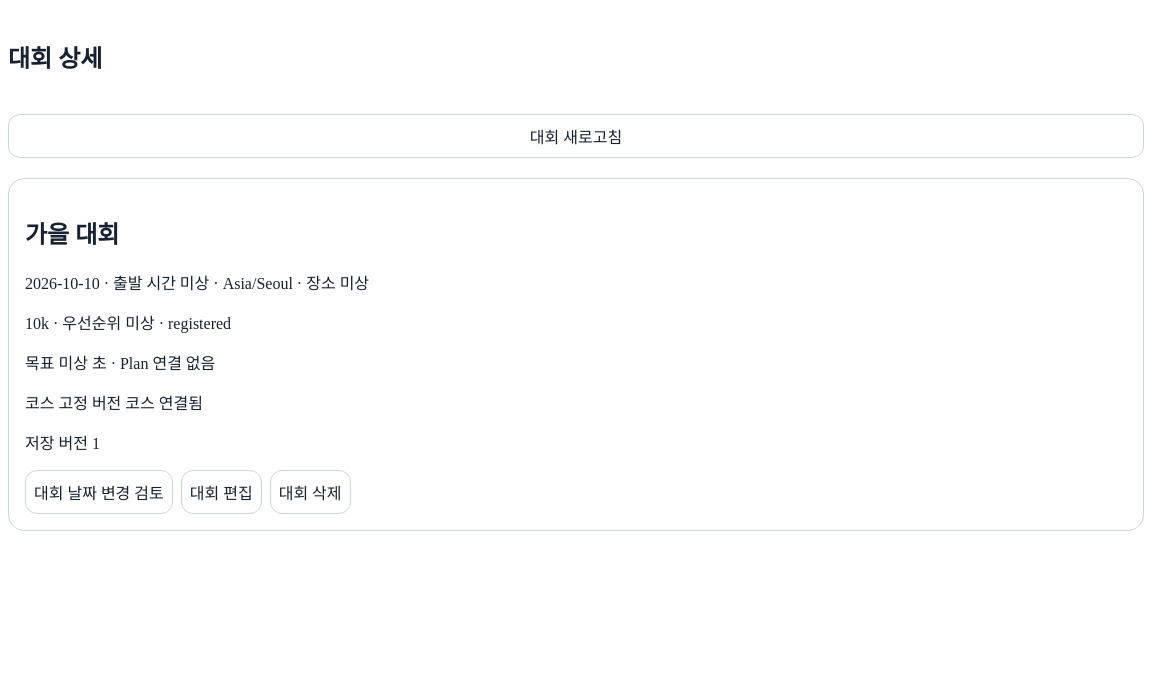
refreshes actual detail and relation plans only after explicit server commit
Click the button "대회 날짜 변경 검토" at (99, 492), box [25,470,173,514]
(page scrolled)
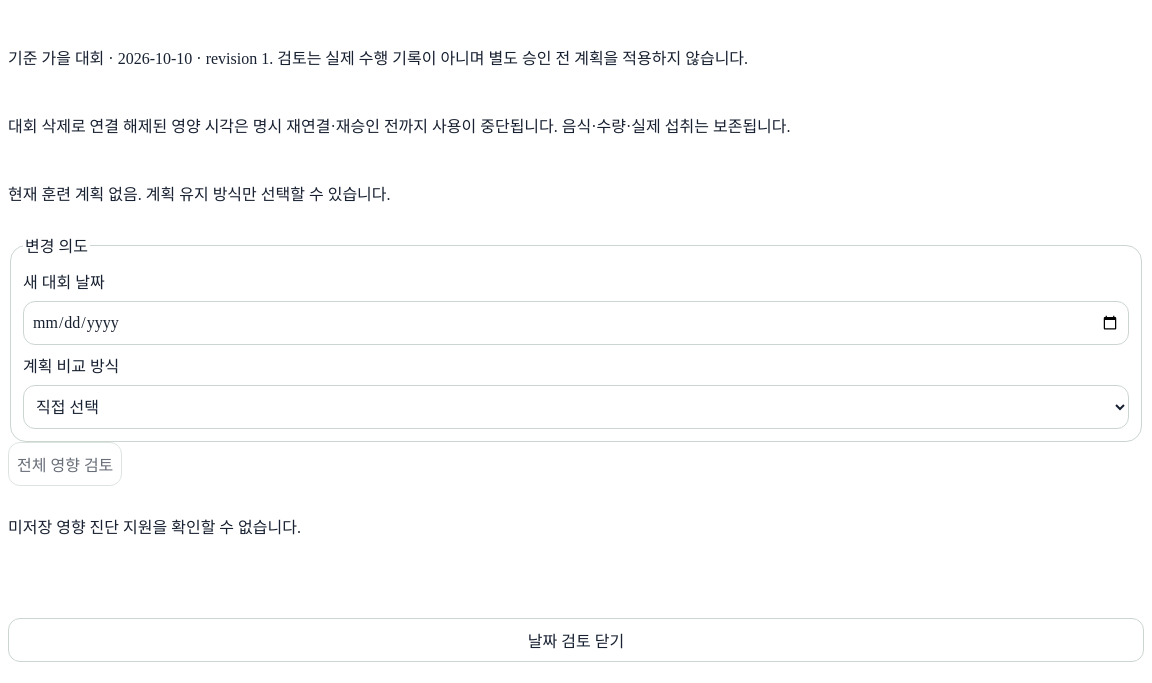
Expected: the text "현재 훈련 계획 없음. 계획 유지 방식만 선택할 수 있습니다." is shown, [8,186,391,203]
Type "2026-10-11" into the date field labelled "새 대회 날짜" at (576, 323), box [23,301,1129,345]
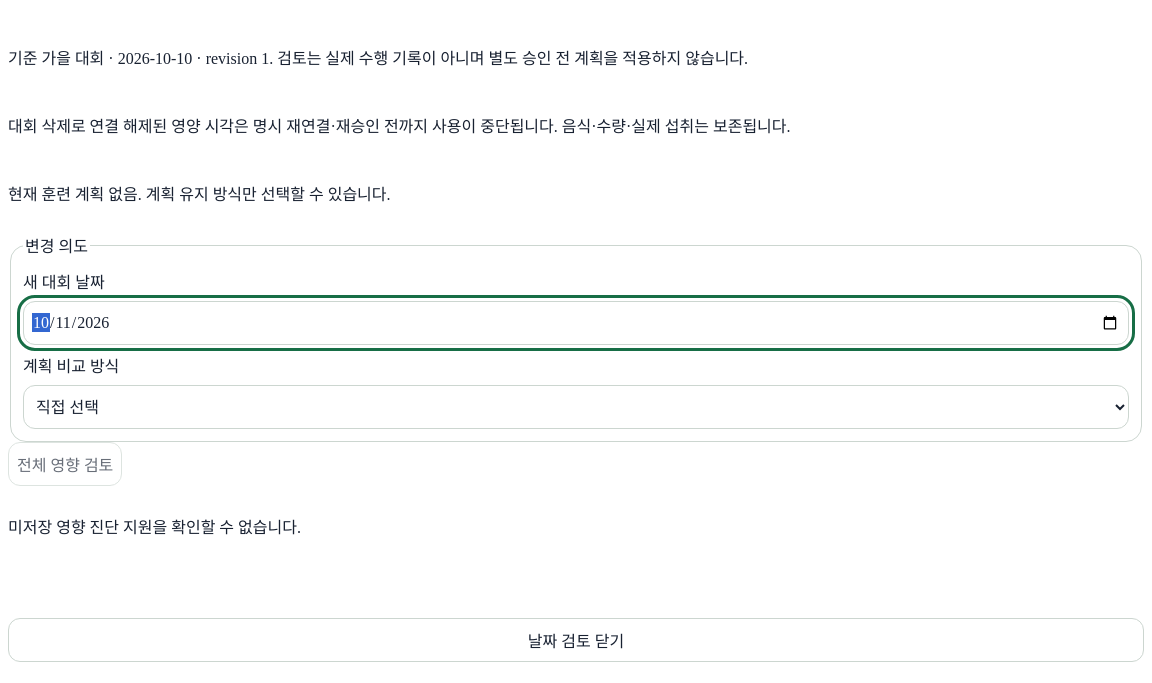
Select "계획 유지" in the dropdown labelled "계획 비교 방식" at (576, 407), box [23,385,1129,429]
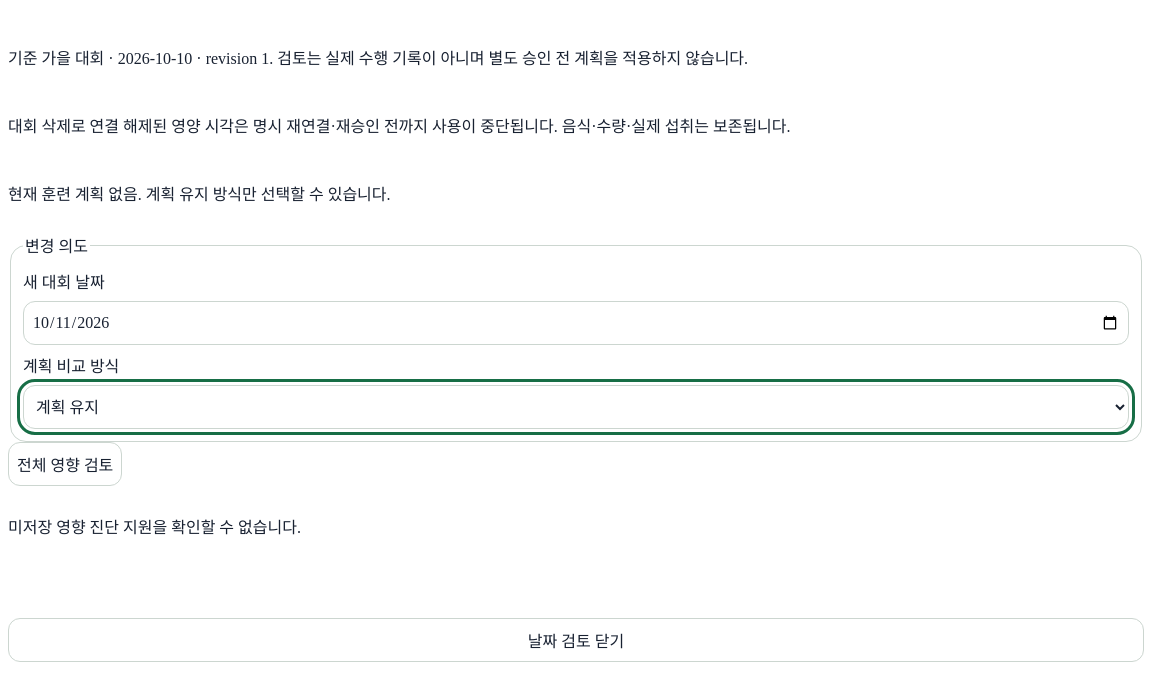
Click the button "전체 영향 검토" at (65, 464), box [8,442,122,486]
(page scrolled)
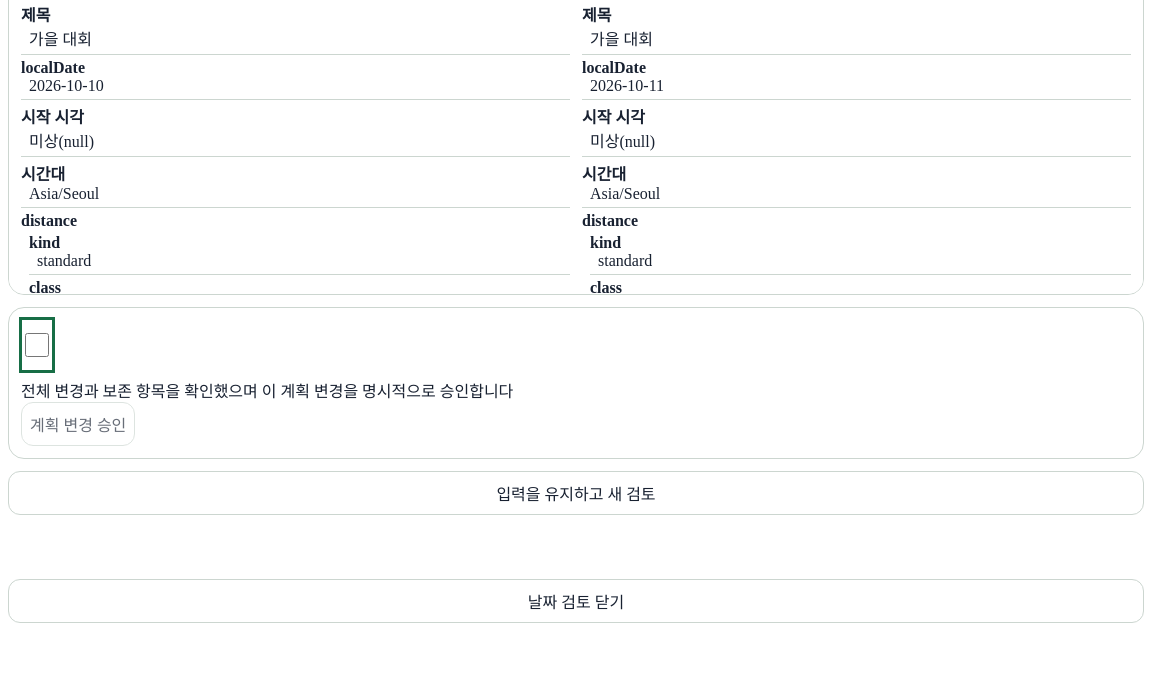
Click the checkbox at (37, 345), box [25,323,49,367]
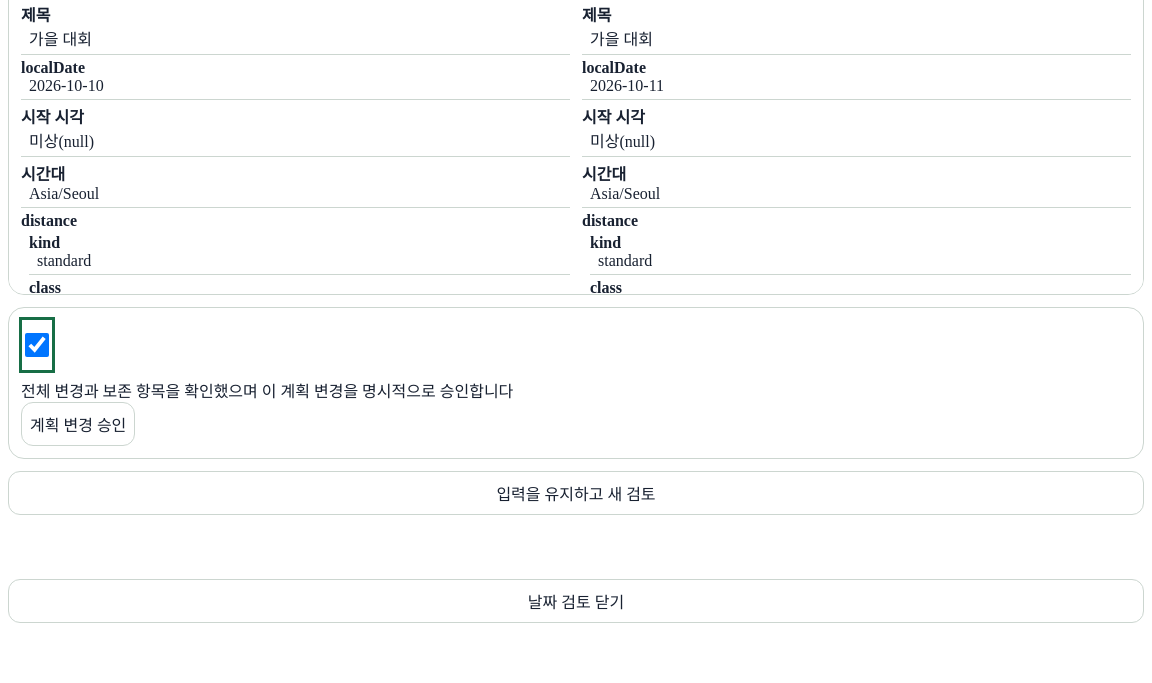
Click the button "계획 변경 승인" at (78, 424), box [21,402,135,446]
(page scrolled)
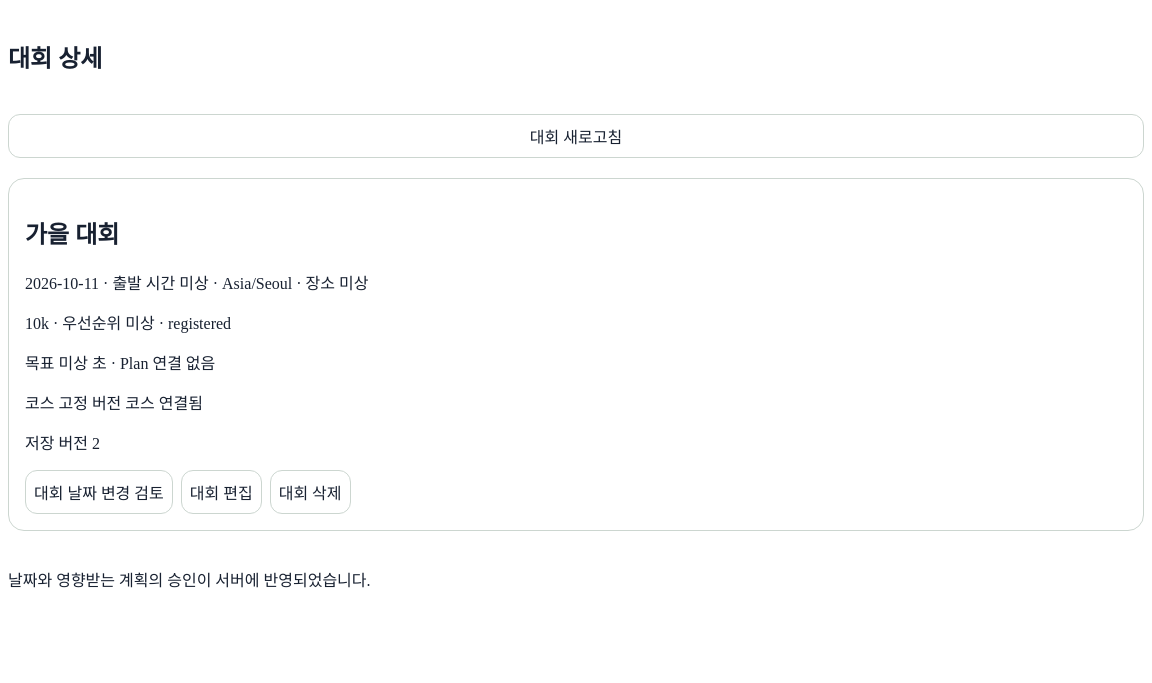
Expected: the text "2026-10-11 · 출발 시간 미상 · Asia/Seoul · 장소 미상" is shown, [25,275,368,292]
